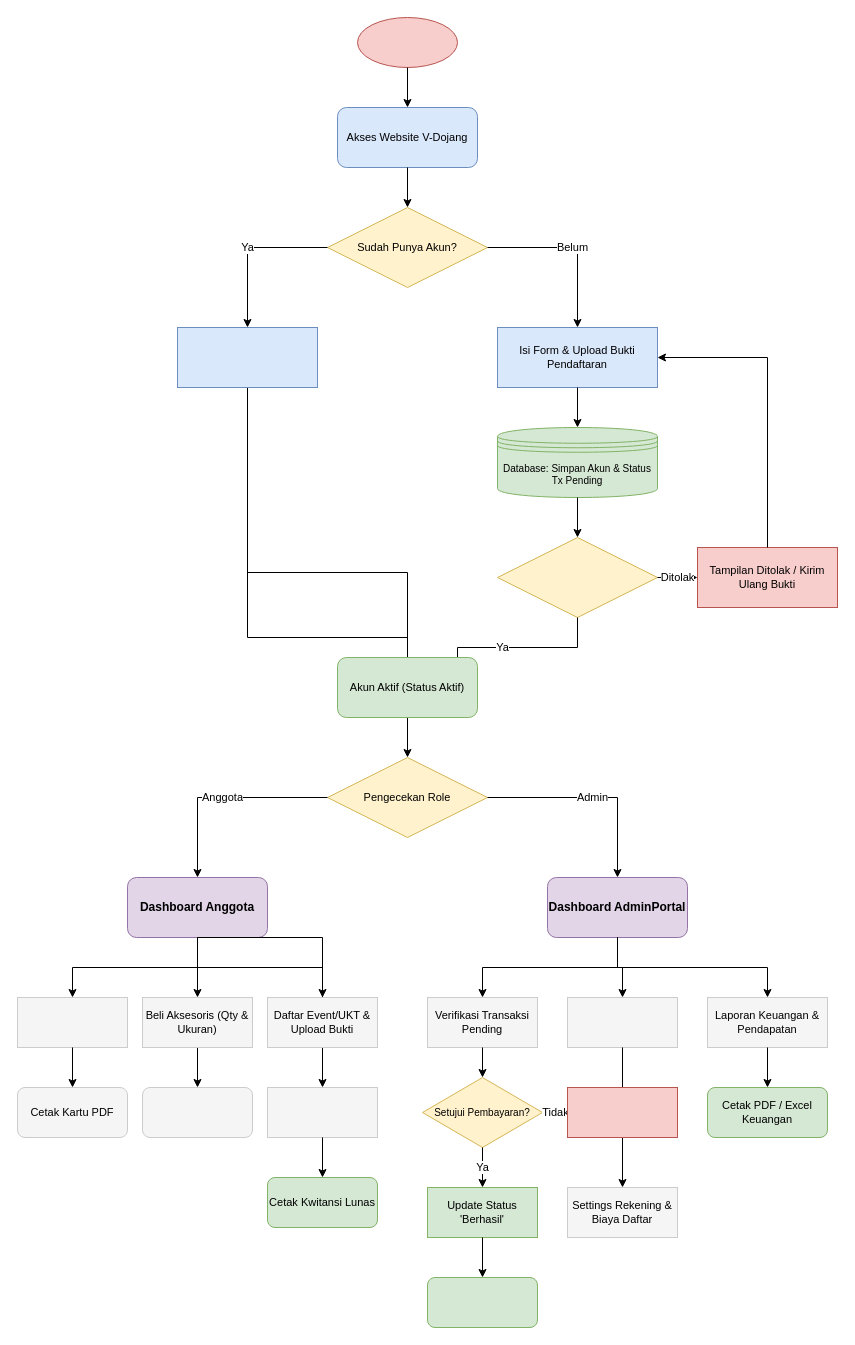
Image size: 855x1345. Some labels were removed from this diagram. The shapes that lost their labels are listed below. From the top down, each one's box as (x1, y1, x2, y2) in pixels, then its label:
(356, 16, 458, 68): Mulai
(176, 326, 318, 388): Input Email & Password
(496, 536, 658, 618): Disetujui Admin?
(16, 996, 128, 1048): Profil & Kartu Anggota Digital
(566, 996, 678, 1048): Kelola Produk & Kategori
(142, 1086, 252, 1138): Upload Bukti Nota & Transfer
(266, 1086, 378, 1138): Riwayat Transaksi & Kwitansi
(566, 1086, 678, 1138): Input Alasan & Status 'Ditolak'
(426, 1276, 538, 1328): Kurangi Stok Aksesoris Otomatis
